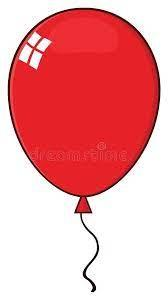red: (7, 6, 162, 213)
